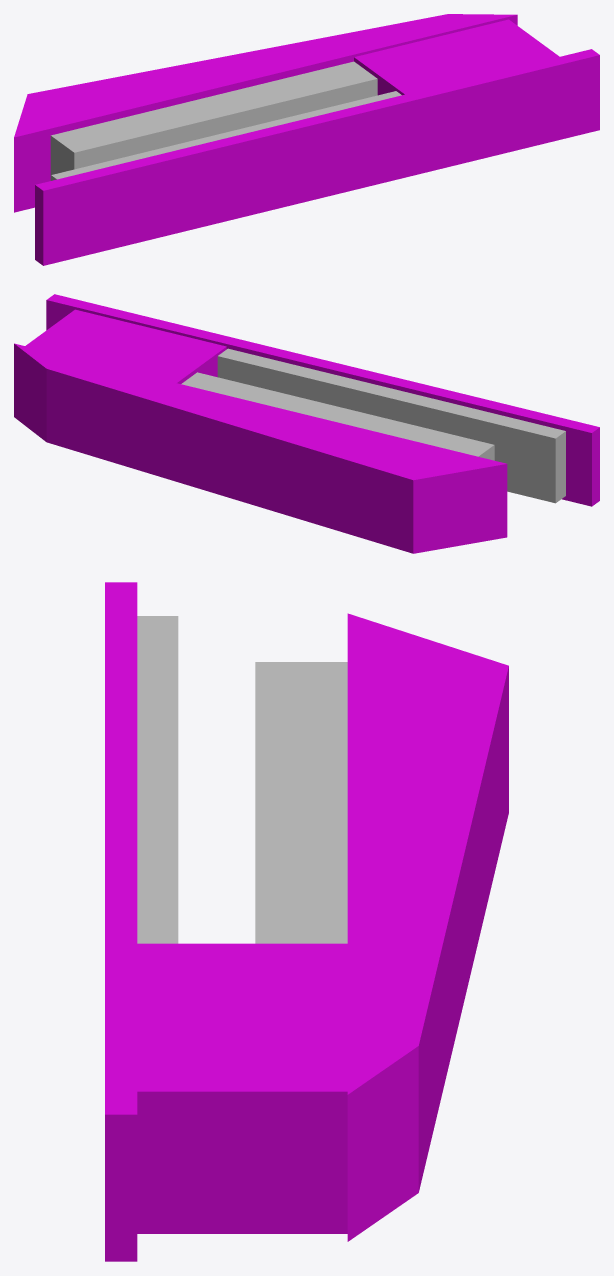
The model's file is Stapler.glb.
3 views of the same model, one above another, from view 1: azimuth 30°, elevation 25°; view 2: azimuth 150°, elevation 25°; view 3: azimuth 270°, elevation 25° (orthographic). The views are drawn at different scales.
Visible parts, largest first — view 1: Plane, Plane.004, Plane.003, Plane.002, Plane.001; view 2: Plane.004, Plane.001, Plane, Plane.002, Plane.003; view 3: Plane.004, Plane.002, Plane.003, Plane, Plane.001.
Boxes of the visible parts, box(x1,y1,x2,y2) form: Plane: box(35, 49, 599, 265); Plane.004: box(14, 14, 517, 212); Plane.003: box(50, 61, 377, 180); Plane.002: box(354, 19, 559, 95); Plane.001: box(51, 91, 401, 180); Plane.004: box(14, 343, 507, 553); Plane.001: box(217, 348, 565, 503); Plane: box(46, 294, 599, 506); Plane.002: box(25, 309, 226, 383); Plane.003: box(181, 372, 494, 460); Plane.004: box(347, 613, 508, 1241); Plane.002: box(137, 943, 347, 1233); Plane.003: box(255, 662, 347, 943); Plane: box(105, 582, 137, 1261); Plane.001: box(137, 616, 178, 943).
Bounding box in the file's own units: 4.15 × 0.5352 × 1.33.
